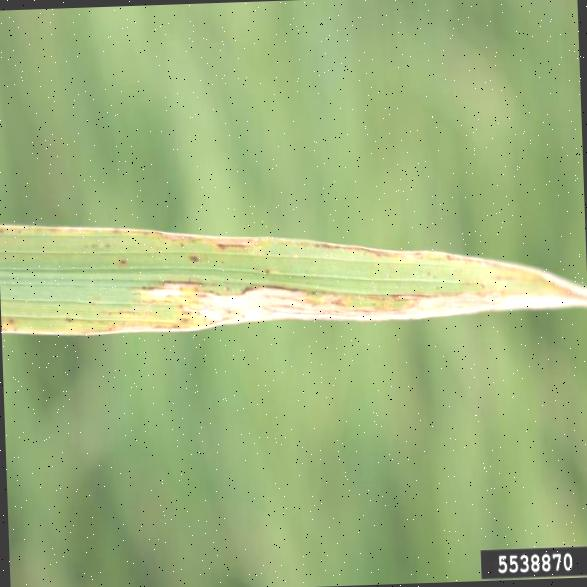Bacteria_Leaf_Blight: (0, 203, 479, 287), (79, 262, 578, 342)
